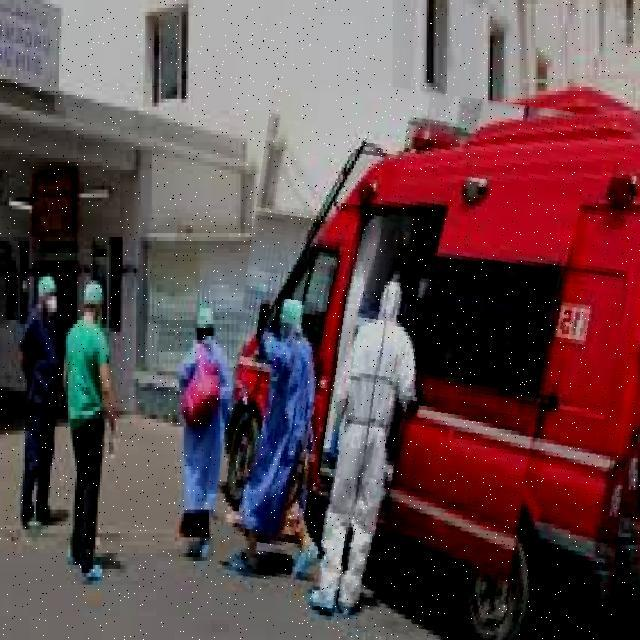ambulance: (219, 82, 640, 640)
